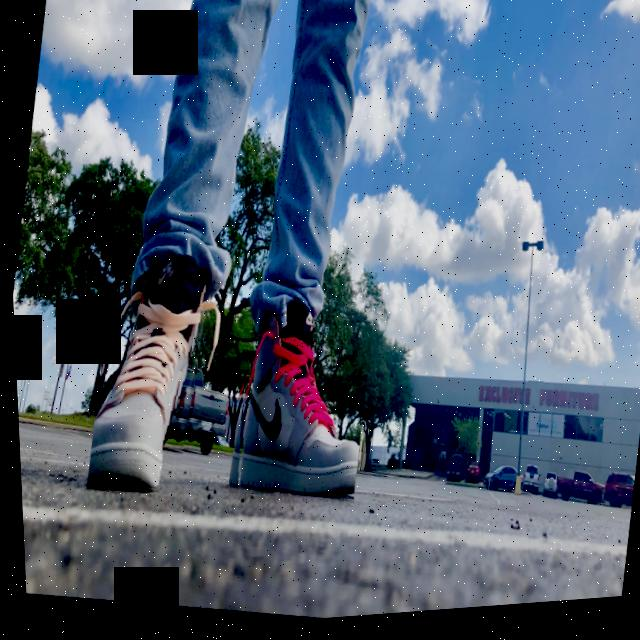shoe: (73, 241, 224, 507), (214, 289, 379, 516)
